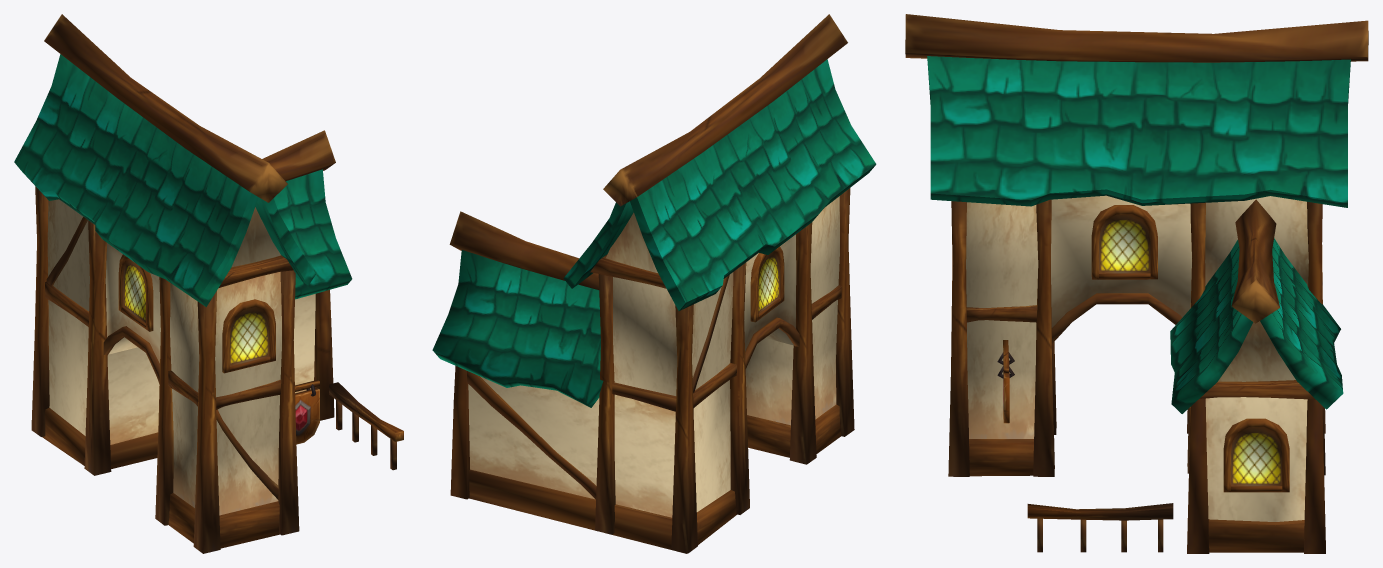
The model's file is Fantasy_House_8.FBX.
3 views of the same model, side by side, from view 1: azimuth 30°, elevation 25°; view 2: azimuth 150°, elevation 25°; view 3: azimuth 270°, elevation 25° (orthographic). The views are drawn at different scales.
Parts seen in each view (by area): view 1: Fantasy_House_8; view 2: Fantasy_House_8; view 3: Fantasy_House_8.
Part boxes in pixels (left/top/right/bottom): Fantasy_House_8: left=14, top=14, right=403, bottom=553; Fantasy_House_8: left=432, top=14, right=876, bottom=553; Fantasy_House_8: left=905, top=14, right=1368, bottom=553.
Size of the model in its own units: 6 by 8.33 by 7.95.
